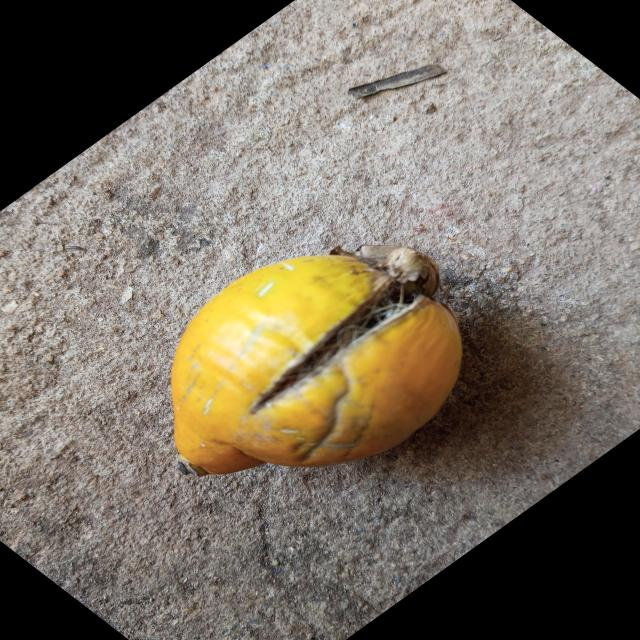damaged: (171, 246, 462, 476)
